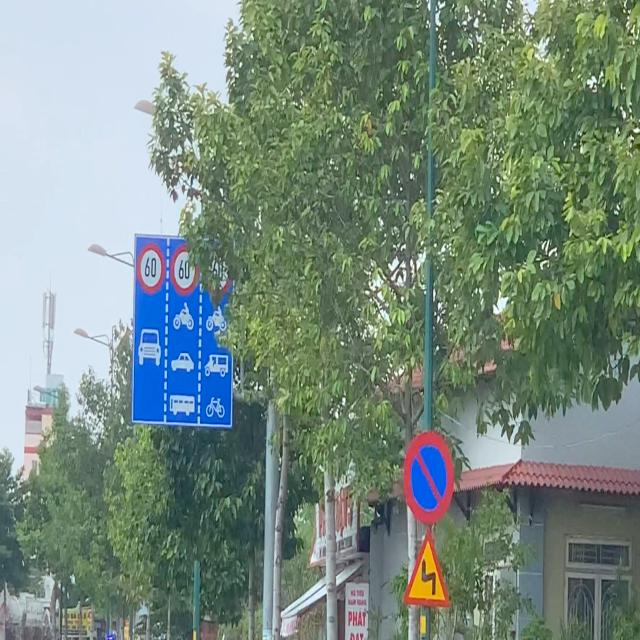Cam do: (402, 431, 454, 525)
Nguy hiem: (402, 526, 450, 609)
Toc do toi da: (171, 244, 198, 295), (137, 244, 164, 292)
